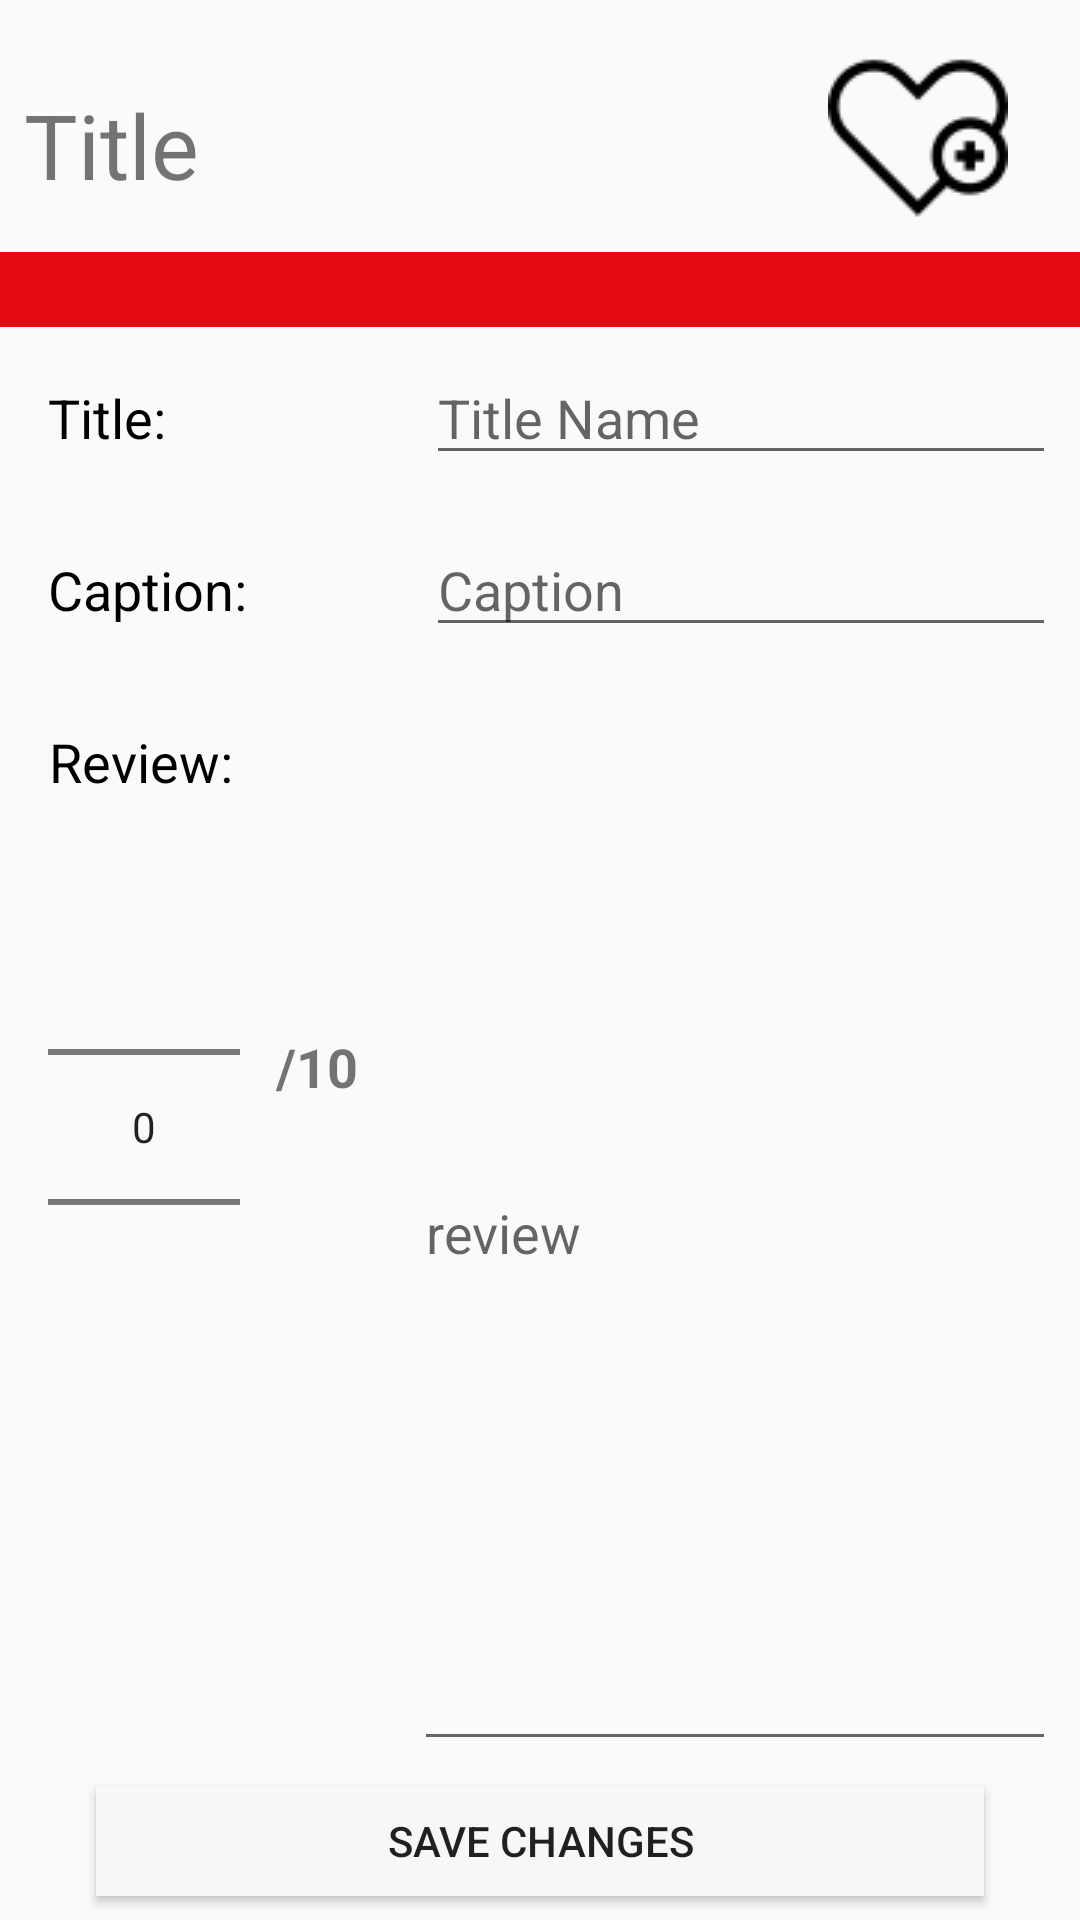

Screen size 1080*1920. Icon name, then its center in pixels as (x=x, y=y):
favourites: (x=918, y=138)
